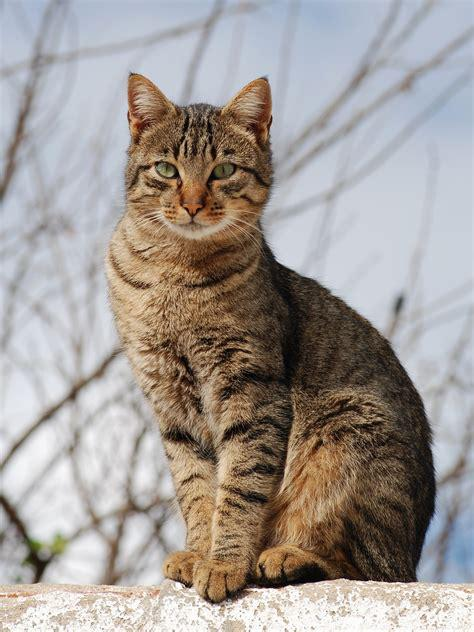cat: (103, 72, 436, 603)
